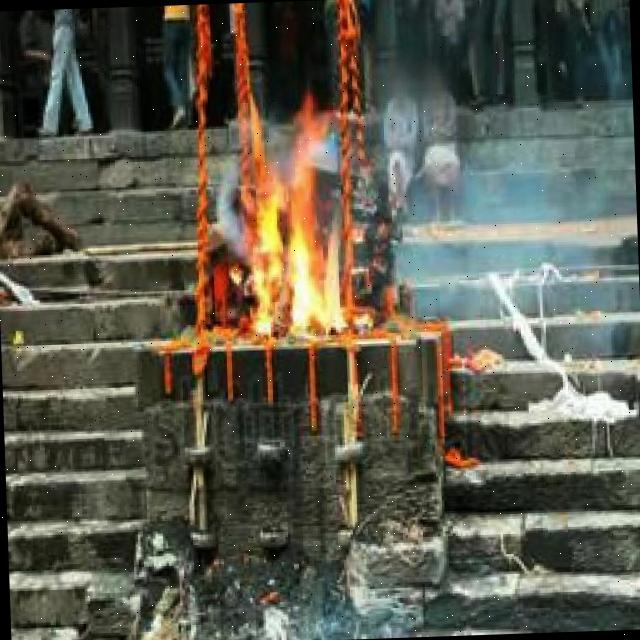fire: (238, 120, 354, 344)
